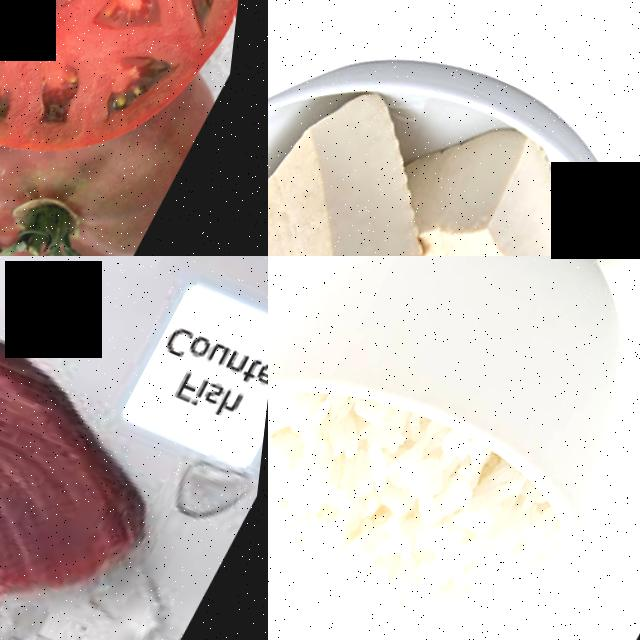tofu: (268, 65, 487, 256), (380, 120, 632, 256)
tuna: (0, 264, 211, 640)
white rice: (268, 343, 609, 640)
